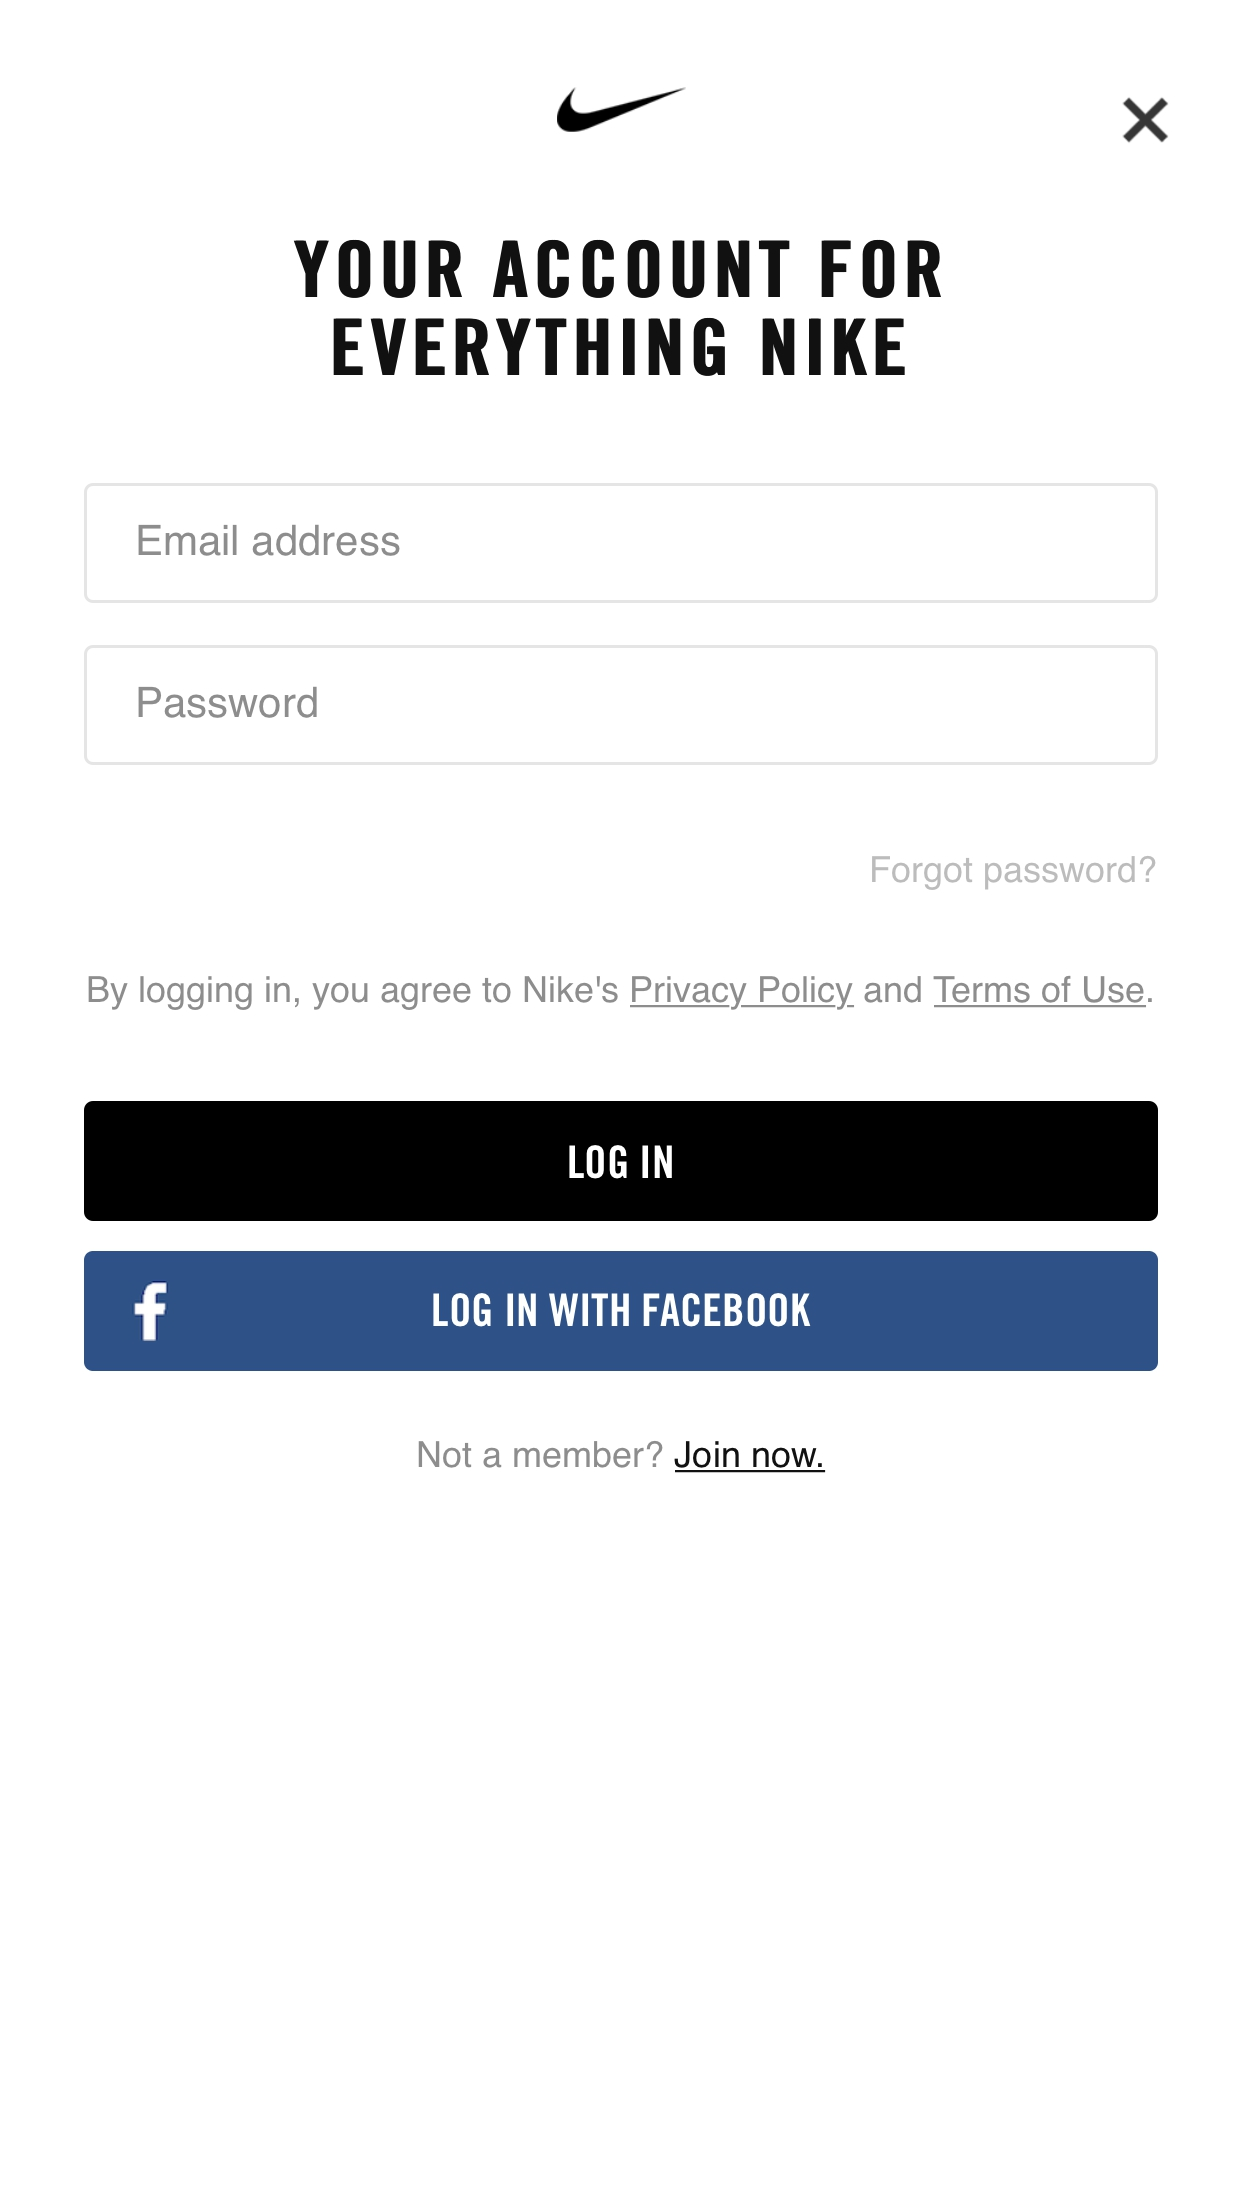EditText: (83, 645, 1159, 766), (83, 482, 1159, 604)
Icon: (1122, 99, 1169, 144)
Image: (557, 86, 687, 133)
Text: (294, 241, 942, 378), (88, 977, 1153, 1011), (419, 1441, 826, 1474), (872, 855, 1156, 892), (140, 525, 400, 557), (140, 685, 318, 719)
TextButton: (83, 1251, 1159, 1372), (83, 1101, 1159, 1222)
